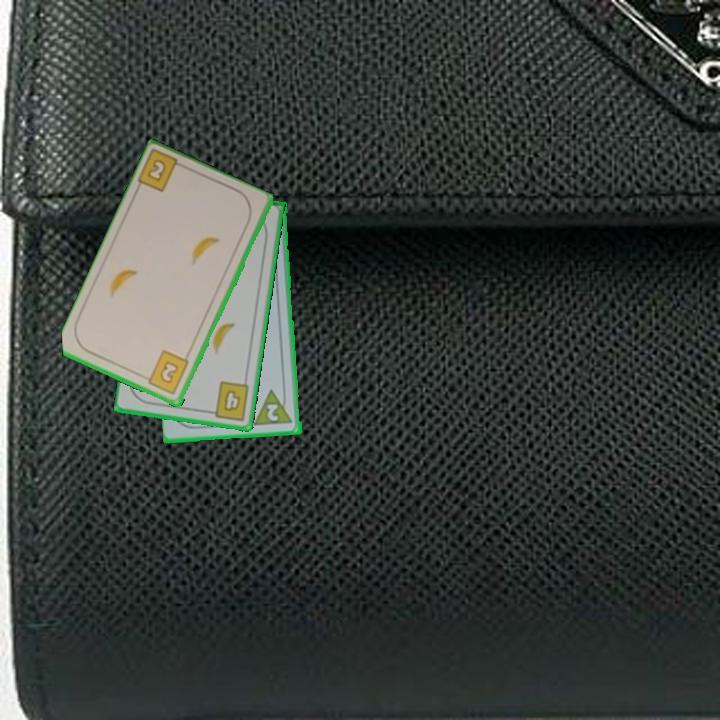2b: (140, 347, 192, 398), (135, 148, 190, 195)
2p: (264, 400, 283, 424)
4b: (205, 378, 252, 423)
